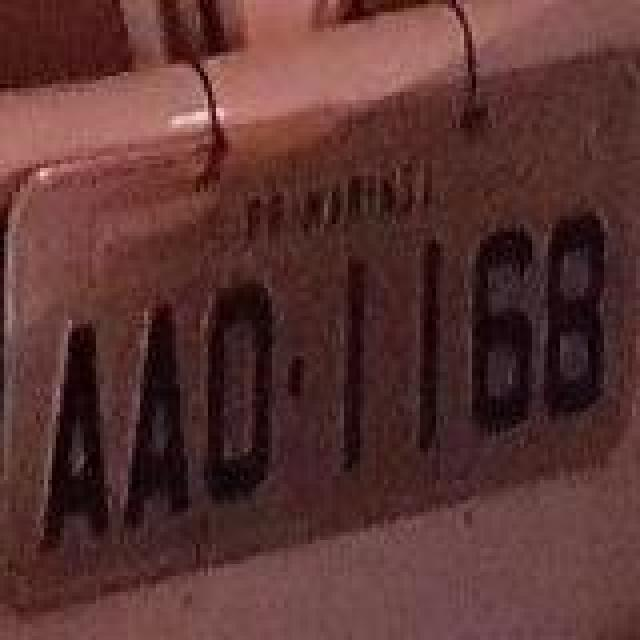1: (410, 236, 446, 452), (336, 250, 368, 478)
6: (466, 224, 542, 440)
8: (540, 208, 612, 424)
A: (30, 320, 114, 560), (118, 296, 194, 536)
O: (202, 276, 278, 508)
